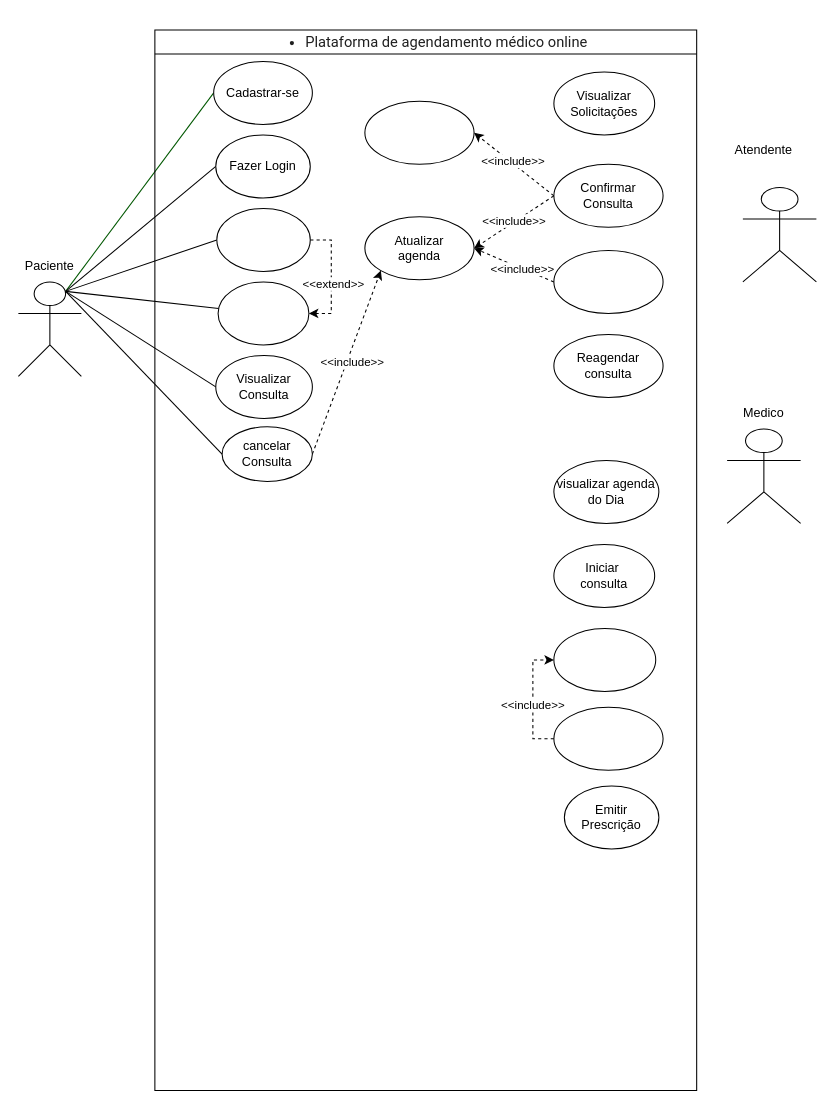
The diagram is 835 pixels wide and 1109 high, and some of its shapes have lost their labels. Each missing label, with the centre of its shape:
"Encerrar Consulta" belongs at (608,738).
"informar sintomas" belongs at (263,313).
"Registrar Atendimento" belongs at (604,659).
"Rejeitar consulta" belongs at (608,281).
"Solicitar Agendamento" belongs at (263,239).
"Verificar Disponibilidade" belongs at (419,132).
